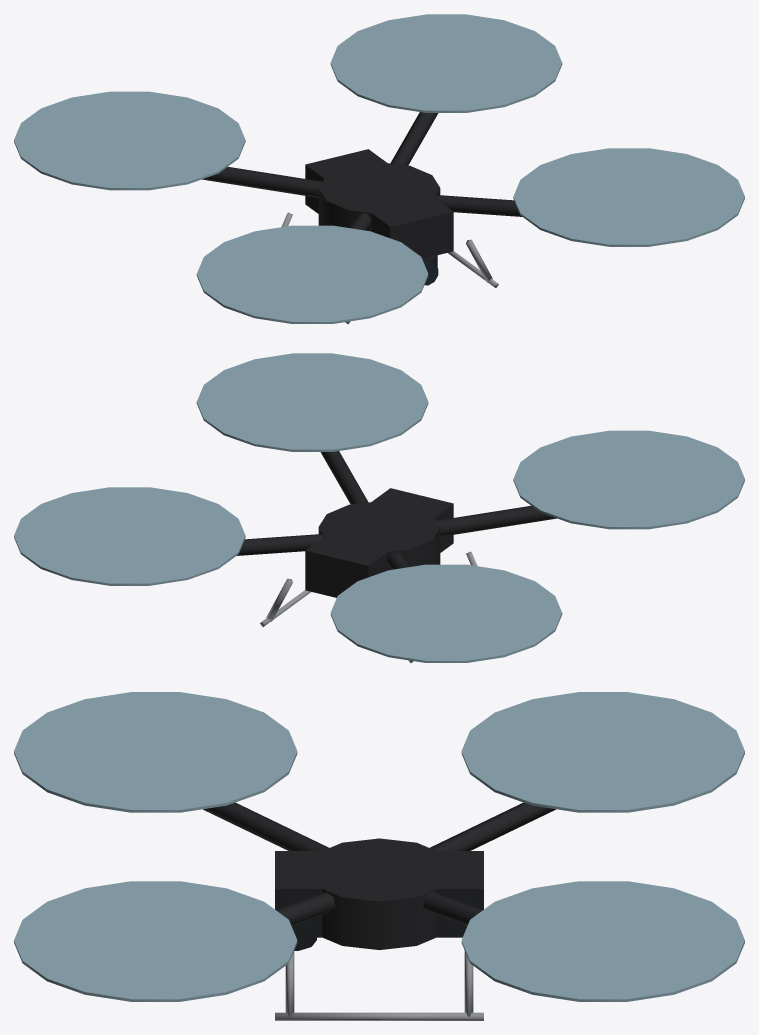
The model's file is isr-drone.glb.
3 renders of one model, top to bottom at view 1: azimuth 30°, elevation 25°; view 2: azimuth 150°, elevation 25°; view 3: azimuth 270°, elevation 25°, orthographic. The views are drawn at different scales.
Parts seen in each view (by area): view 1: isr-drone; view 2: isr-drone; view 3: isr-drone.
Part boxes in pixels (x1,y1,x2,y2): isr-drone: [14, 14, 744, 324]; isr-drone: [14, 353, 744, 663]; isr-drone: [14, 692, 744, 1020].
Bounding box in the file's own units: 0.4871 × 0.097 × 0.49.
1 material, 1 textured.
